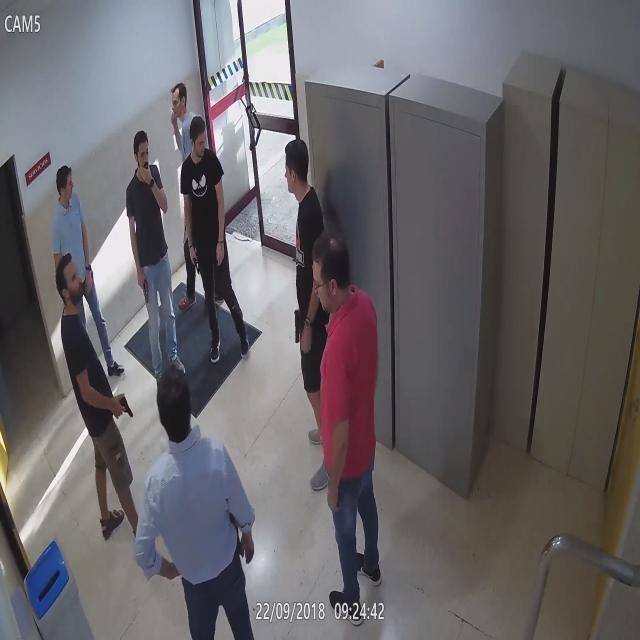gun: (112, 394, 135, 422), (136, 270, 150, 304), (189, 244, 202, 278), (293, 306, 303, 344)
